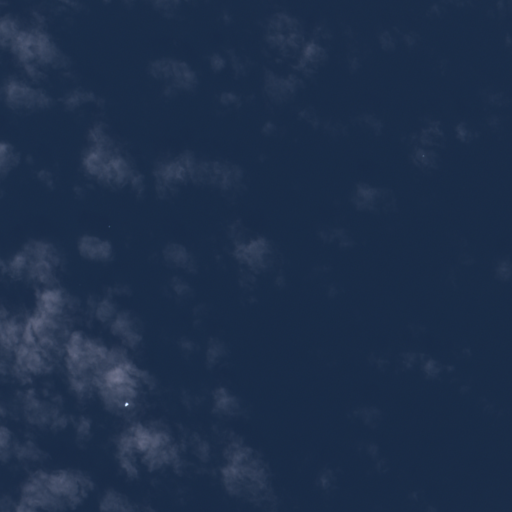Iceberg: (125, 402, 128, 406), (108, 225, 110, 227), (422, 155, 423, 156)
